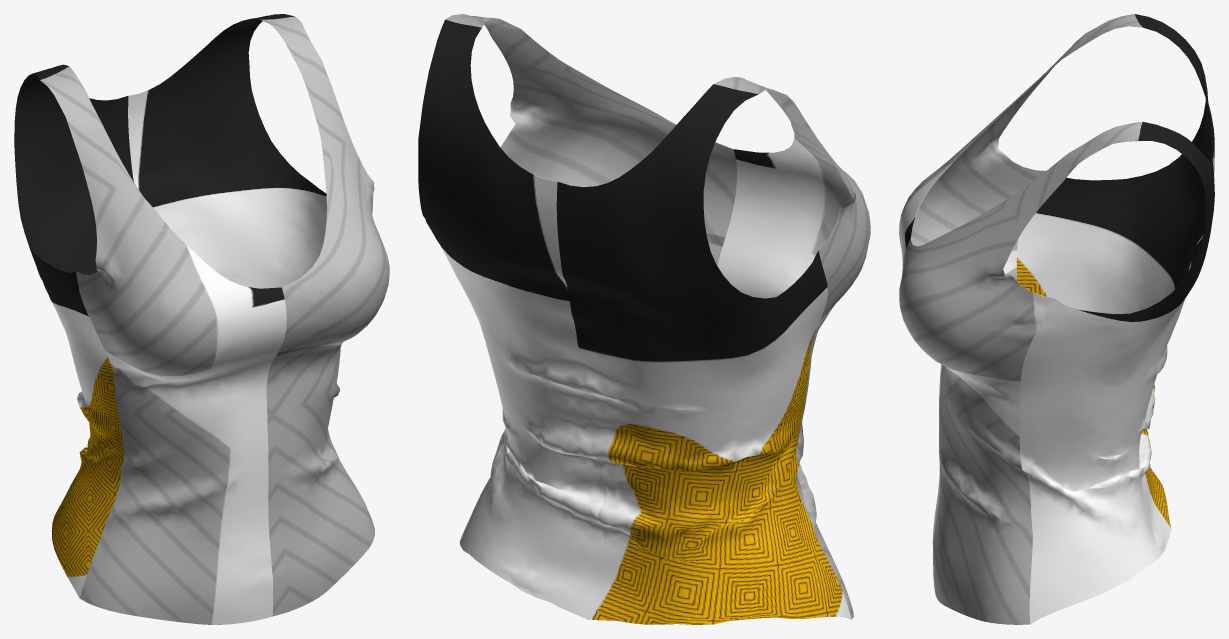
File: 3Angle.fbx
The picture shows the model from 3 angles, left to right: view 1: azimuth 30°, elevation 25°; view 2: azimuth 150°, elevation 25°; view 3: azimuth 270°, elevation 25°; orthographic projection. The views are drawn at different scales.
Parts seen in each view (by area): view 1: 3Angle; view 2: 3Angle; view 3: 3Angle.
Boxes of the visible parts, x1,y1,x2,y2 form: 3Angle: (14, 14, 389, 624); 3Angle: (418, 14, 870, 624); 3Angle: (899, 14, 1214, 624).
Bounding box in the file's own units: 30.02 × 48.43 × 27.36.
